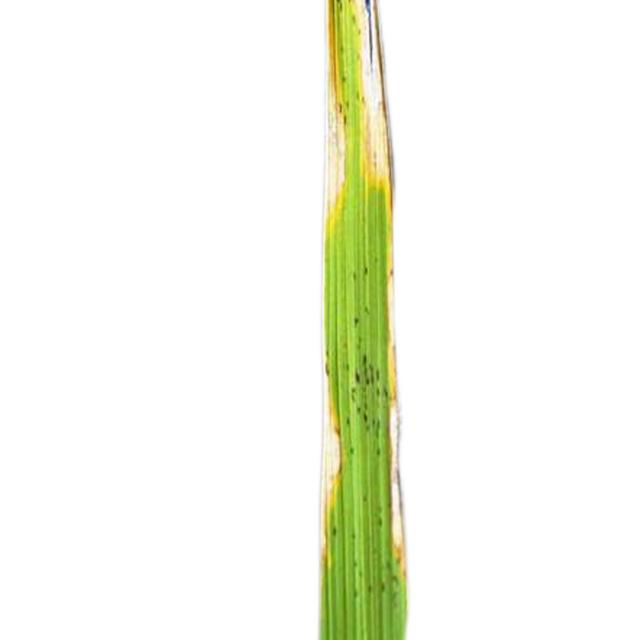Leaf scald: (150, 0, 457, 640)
